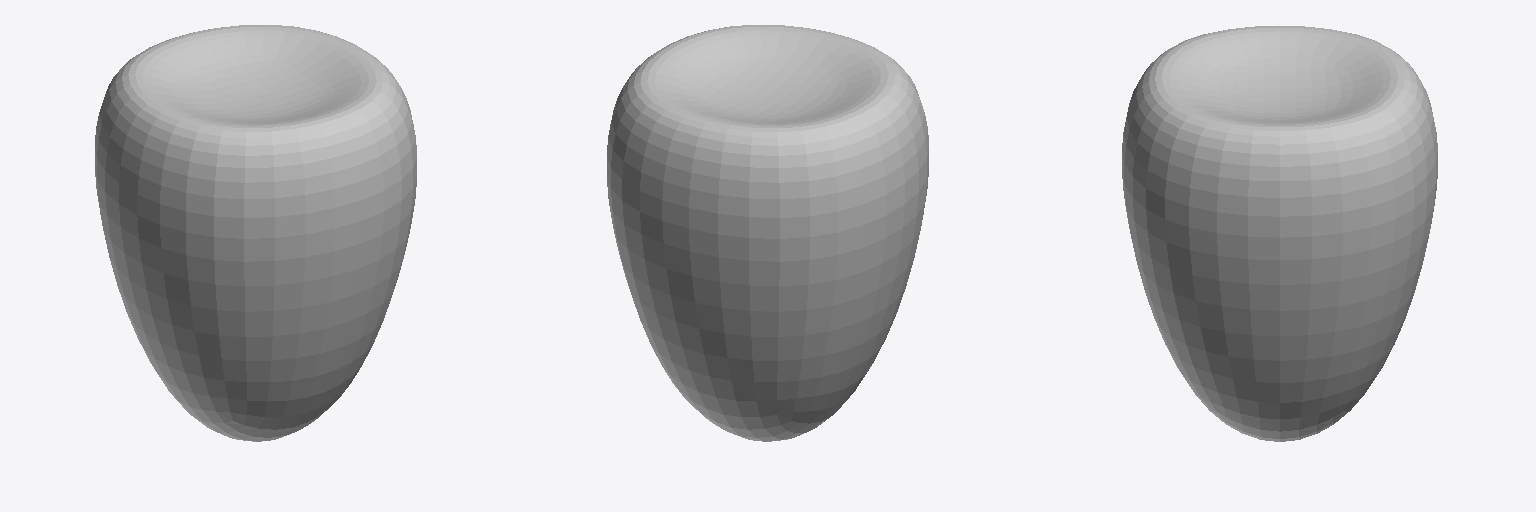
File: powerup.obj
3 views of the same model, side by side, from view 1: azimuth 30°, elevation 25°; view 2: azimuth 150°, elevation 25°; view 3: azimuth 270°, elevation 25° (orthographic).
Parts seen in each view (by area): view 1: Cube; view 2: Cube; view 3: Cube.
Part boxes in pixels (x1,y1,x2,y2): Cube: (95,25,416,441); Cube: (607,25,928,441); Cube: (1122,26,1437,441).
Size of the model in its own units: 2.76 by 3.43 by 2.76.